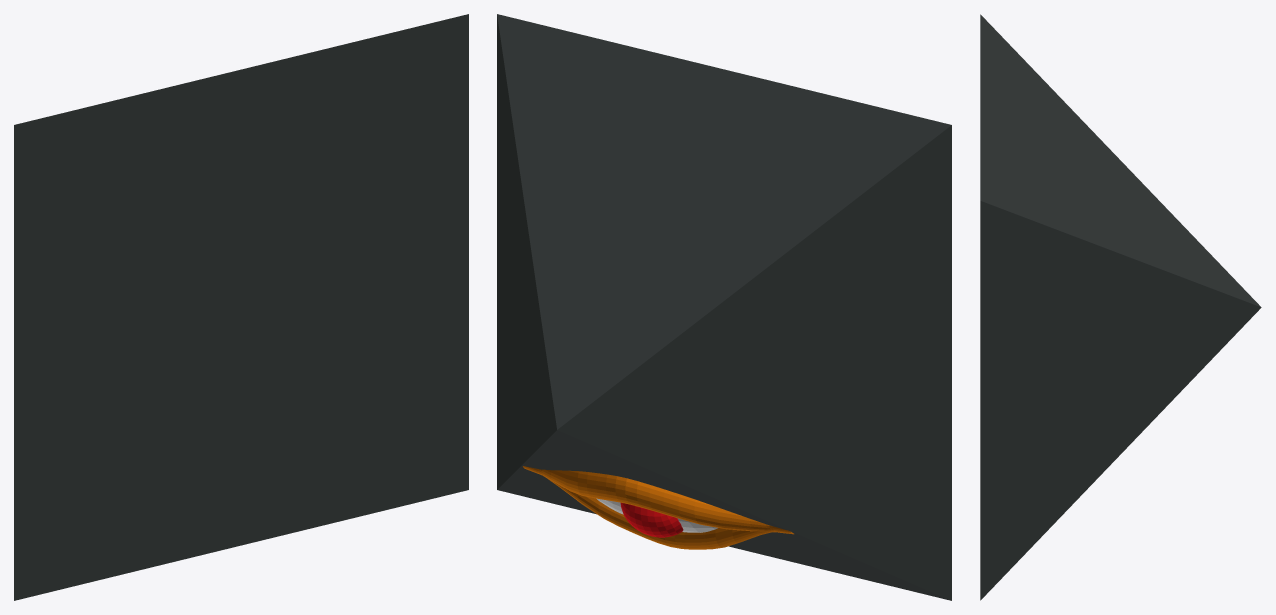
File: Piramide Boss Parte De Cima.fbx
3 renders of one model, left to right at view 1: azimuth 30°, elevation 25°; view 2: azimuth 150°, elevation 25°; view 3: azimuth 270°, elevation 25°, orthographic. The views are drawn at different scales.
Parts seen in each view (by area): view 1: Cube.004; view 2: Cube.004, Cube.008, Cube.009, Cube.010, Cube.006, Cube.011; view 3: Cube.004.
Boxes of the visible parts, x1,y1,x2,y2 form: Cube.004: (14,14,468,600); Cube.004: (497,14,951,600); Cube.008: (625,478,793,534); Cube.009: (524,468,630,504); Cube.010: (665,525,793,549); Cube.006: (620,502,683,537); Cube.011: (523,466,668,546); Cube.004: (980,14,1261,600).
Bounding box in the file's own units: 323 × 323 × 206.
